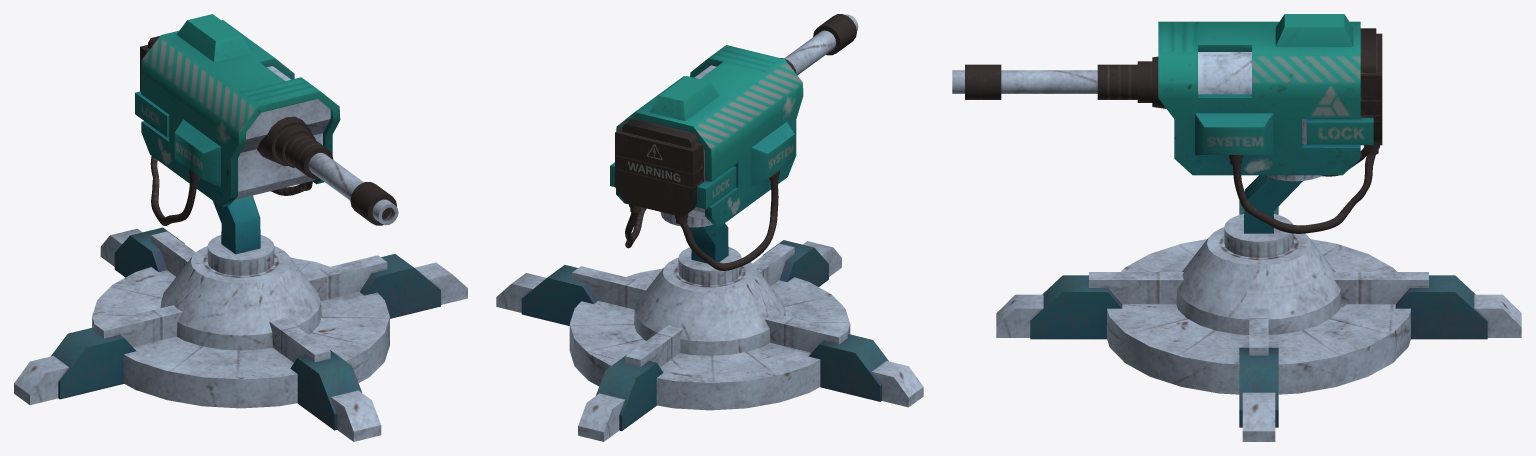
The model's file is tower2.glb.
The picture shows the model from 3 angles, left to right: view 1: azimuth 30°, elevation 25°; view 2: azimuth 150°, elevation 25°; view 3: azimuth 270°, elevation 25°; orthographic projection. The views are drawn at different scales.
Parts seen in each view (by area): view 1: Platform_low_Uv_0; view 2: Platform_low_Uv_0; view 3: Platform_low_Uv_0.
Part boxes in pixels (<box>): Platform_low_Uv_0: <box>14,14,467,441</box>; Platform_low_Uv_0: <box>496,14,923,441</box>; Platform_low_Uv_0: <box>952,14,1521,441</box>.
Bounding box in the file's own units: 6.51 × 4.24 × 7.05.
1 material, 1 textured.
